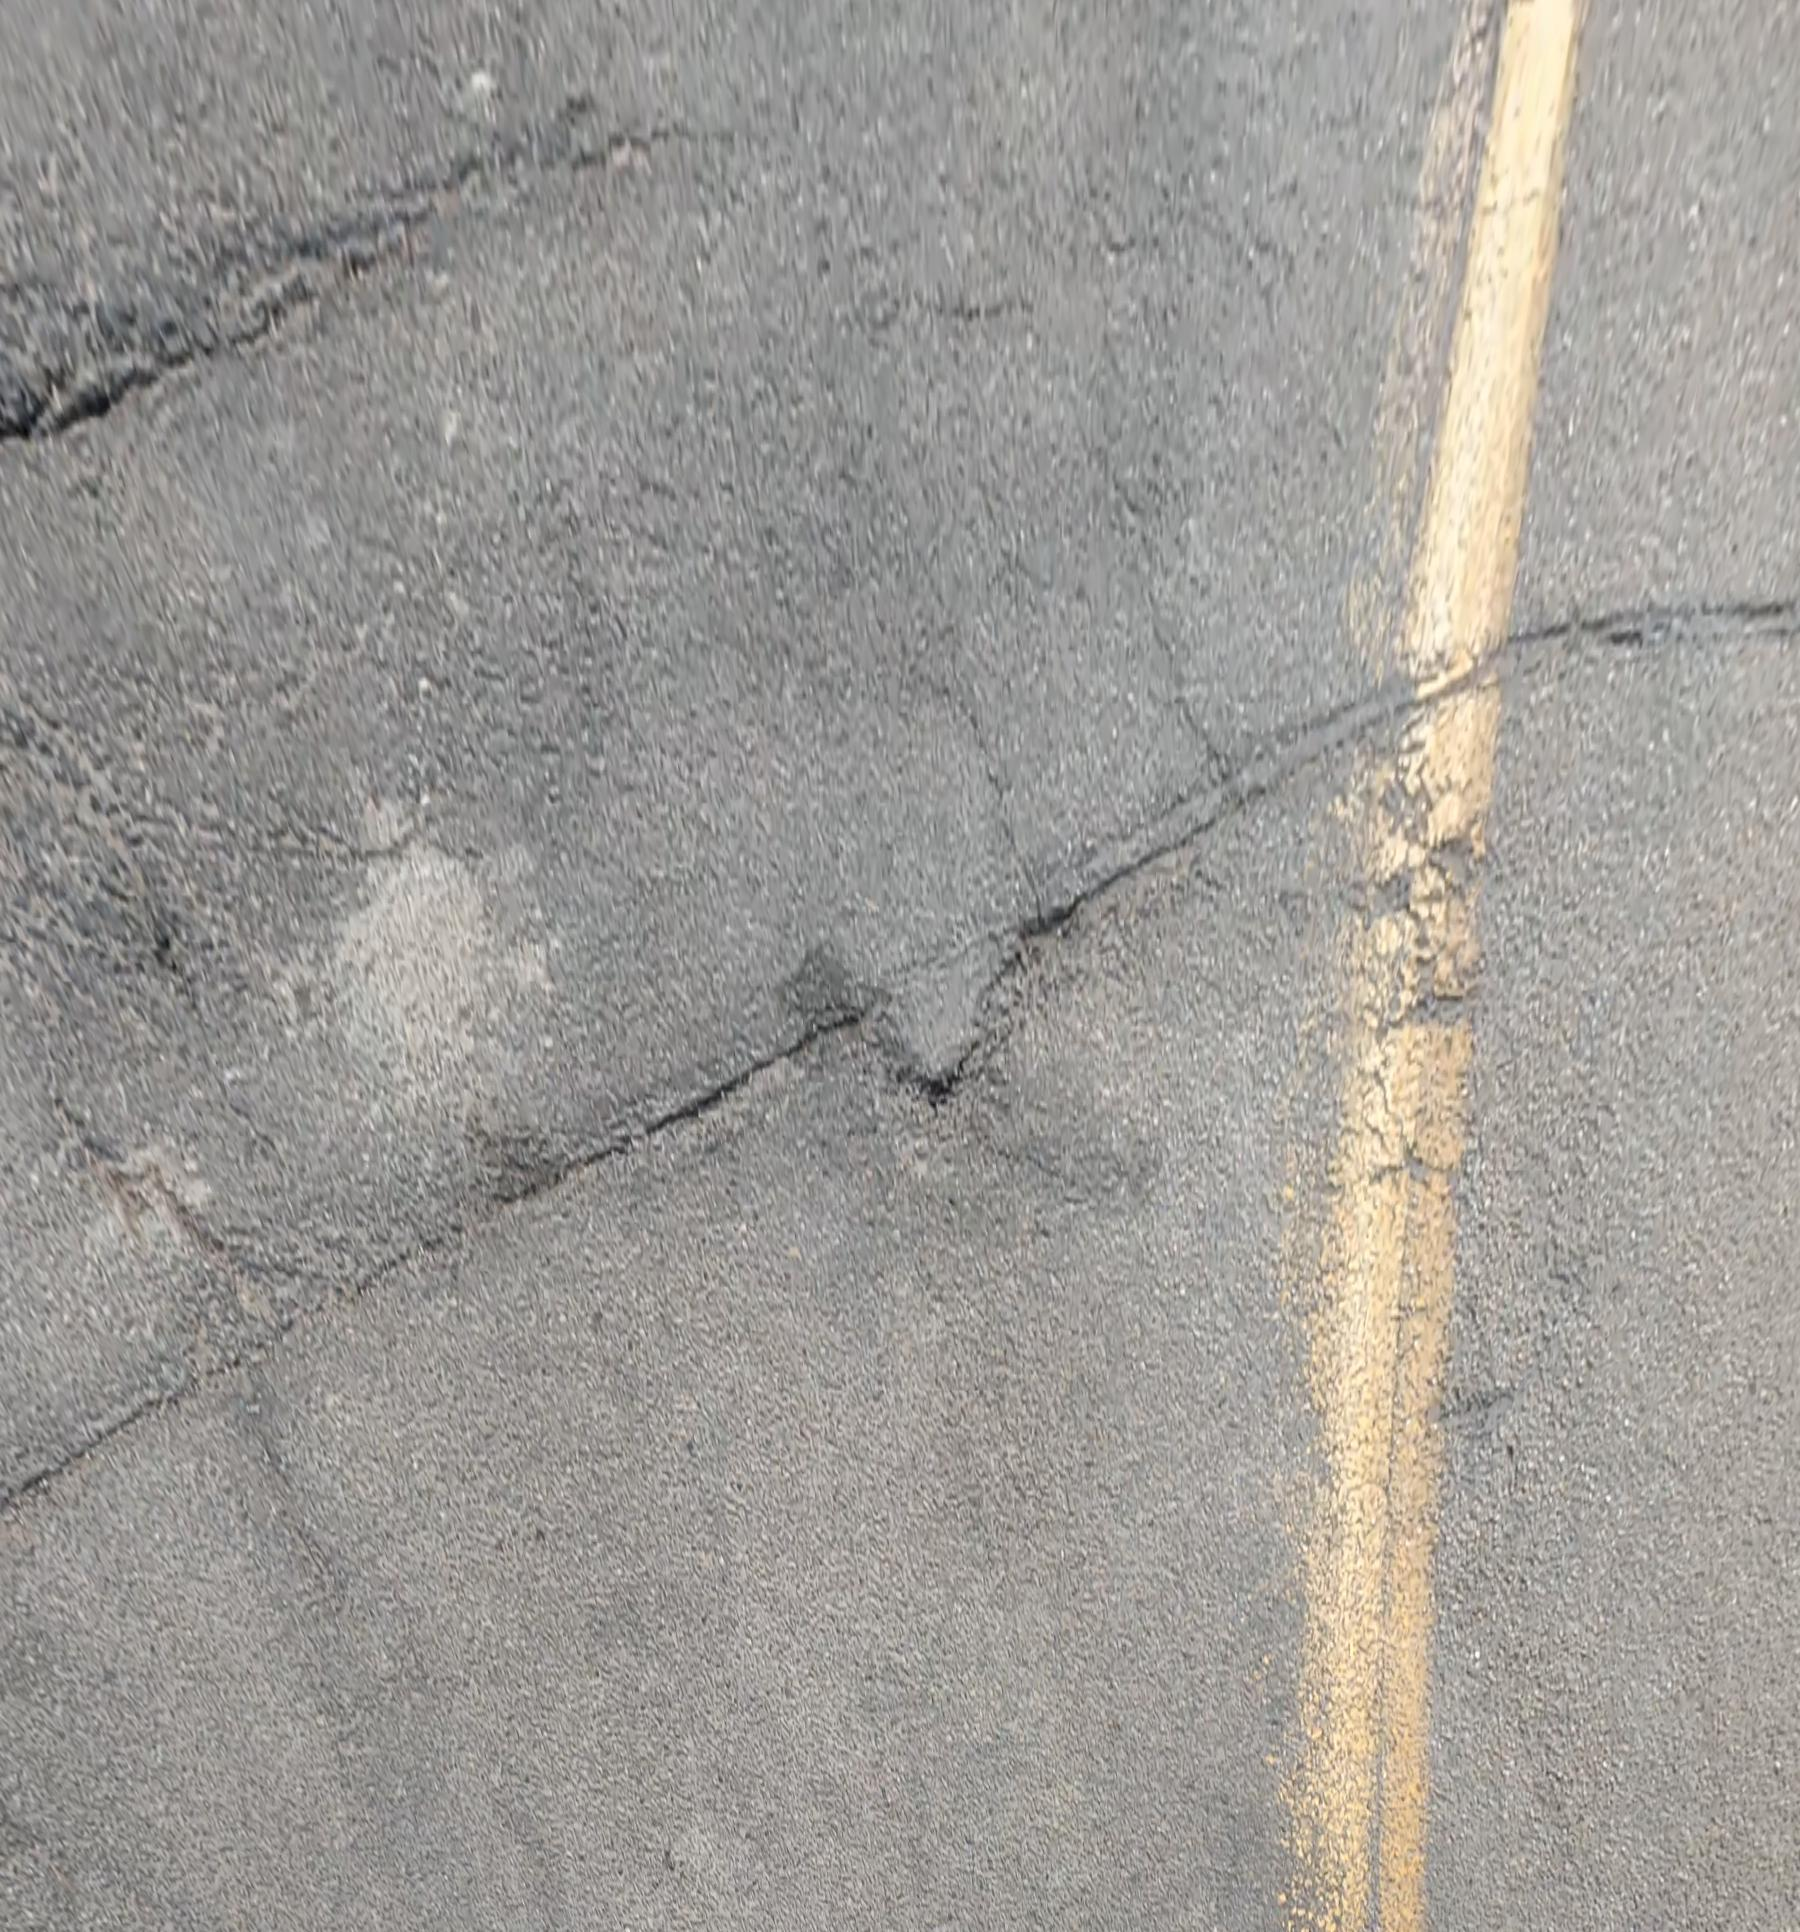pothole: (849, 934, 1022, 1105)
